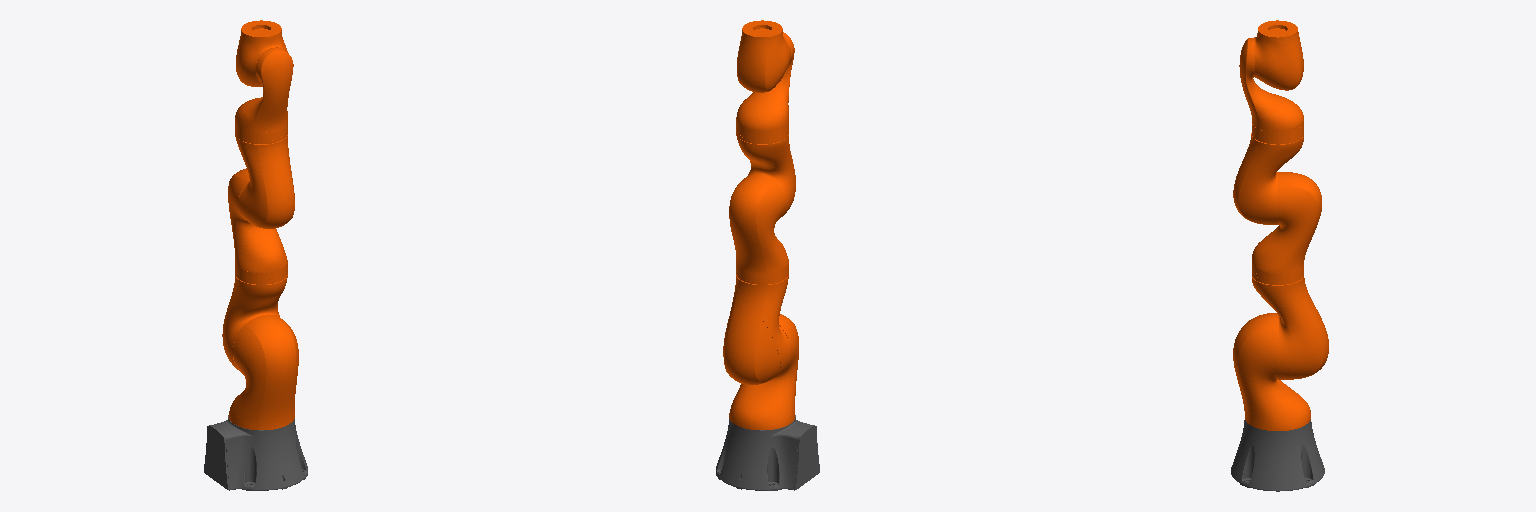
robot.urdf — KUKAiiwa14:
<?xml version="1.0" ?>
<!-- =================================================================================== -->
<!-- |    This document was autogenerated by xacro from [local-path]/devel/workspace/src/robot_properties_kuka/src/robot_properties_kuka/robot_properties_kuka/xacro/iiwa.urdf.xacro | -->
<!-- |    EDITING THIS FILE BY HAND IS NOT RECOMMENDED                                 | -->
<!-- =================================================================================== -->
<robot name="KUKAiiwa14" xmlns:xacro="http://www.ros.org/wiki/xacro">
  <material name="Black">
    <color rgba="0.0 0.0 0.0 1.0"/>
  </material>
  <material name="Blue">
    <color rgba="0.0 0.0 0.8 1.0"/>
  </material>
  <material name="Green">
    <color rgba="0.0 0.8 0.0 1.0"/>
  </material>
  <material name="Grey">
    <color rgba="0.4 0.4 0.4 1.0"/>
  </material>
  <material name="Orange">
    <color rgba="1.0 0.4235294117647059 0.0392156862745098 1.0"/>
  </material>
  <material name="Brown">
    <color rgba="0.8705882352941177 0.8117647058823529 0.7647058823529411 1.0"/>
  </material>
  <material name="Red">
    <color rgba="0.8 0.0 0.0 1.0"/>
  </material>
  <material name="White">
    <color rgba="1.0 1.0 1.0 1.0"/>
  </material>
  <!-- Fix to world just for testing -->
  <link name="world"/>
  <!--joint between WORLD and BASE-->
  <joint name="A0" type="fixed">
    <origin rpy="0 0 0" xyz="0 0 0"/>
    <parent link="world"/>
    <child link="iiwa_base"/>
  </joint>
  <!-- BASE -->
  <link name="iiwa_base">
    <inertial>
      <origin rpy="0 0 0" xyz="0 0 0"/>
      <mass value="5"/>
      <inertia ixx="0.05" ixy="0" ixz="0" iyy="0.06" iyz="0" izz="0.03"/>
    </inertial>
    <visual>
      <origin rpy="0 0 0" xyz="0 0 0"/>
      <geometry>
        <mesh filename="package://robot_properties_kuka/meshes/iiwa_base.dae"/>
      </geometry>
      <material name="Grey"/>
    </visual>
    <collision>
      <origin rpy="0 0 0" xyz="0 0 0"/>
      <geometry>
        <mesh filename="package://robot_properties_kuka/meshes/iiwa_base.obj"/>
      </geometry>
      <material name="Grey"/>
    </collision>
    <self_collision_checking>
      <origin rpy="0 0 0" xyz="0 0 0"/>
      <geometry>
        <capsule length="0.25" radius="0.15"/>
      </geometry>
    </self_collision_checking>
  </link>
  <!-- joint between base and link1 -->
  <joint name="A1" type="revolute">
    <origin rpy="0.0 0.0 0.0" xyz="0.00000 0.00000 0.15750"/>
    <parent link="iiwa_base"/>
    <child link="L1"/>
    <axis xyz="0 0 1"/>
    <limit effort="320" lower="-2.96706" upper="2.96706" velocity="1.48353"/>
    <!-- <safety_controller soft_lower_limit="${-168 * PI / 180}"
                          soft_upper_limit="${168 * PI / 180}"
                          k_position="${safety_controller_k_pos}"
                          k_velocity="${safety_controller_k_vel}"/> 
      <dynamics damping="${joint_damping}"/> -->
  </joint>
  <!-- LINK 1-->
  <link name="L1">
    <inertial>
      <origin xyz="0.00000 0.00000 0.00000"/>
      <mass value="3.94781"/>
      <inertia ixx="0.00455" ixy="0.00000" ixz="-0.00000" iyy="0.00454" iyz="-0.00001" izz="0.00029"/>
    </inertial>
    <visual>
      <origin rpy="0 0 0" xyz="0 0 0"/>
      <geometry>
        <mesh filename="package://robot_properties_kuka/meshes/iiwa_link_1.dae"/>
      </geometry>
      <material name="Orange"/>
    </visual>
    <collision>
      <origin rpy="0 0 0" xyz="0 0 0"/>
      <geometry>
        <mesh filename="package://robot_properties_kuka/meshes/iiwa_link_1.obj"/>
      </geometry>
      <material name="Orange"/>
    </collision>
  </link>
  <!-- joint between link1 and link2 -->
  <joint name="A2" type="revolute">
    <origin rpy="2.3561944901923457 -1.5707962635746238 2.3561944901923457" xyz="0.00000 0.00000 0.20250"/>
    <parent link="L1"/>
    <child link="L2"/>
    <axis xyz="0 0 1"/>
    <limit effort="320" lower="-2.0944" upper="2.0944" velocity="1.48353"/>
    <!-- <safety_controller soft_lower_limit="${-118 * PI / 180}"
                          soft_upper_limit="${118 * PI / 180}"
                          k_position="${safety_controller_k_pos}"
                          k_velocity="${safety_controller_k_vel}"/> 
      <dynamics damping="${joint_damping}"/> -->
  </joint>
  <!-- LINK 2-->
  <link name="L2">
    <inertial>
      <origin rpy="0 0 0" xyz="0.0003 0.059 0.042"/>
      <mass value="4"/>
      <inertia ixx="0.05" ixy="0" ixz="0" iyy="0.018" iyz="0" izz="0.044"/>
    </inertial>
    <visual>
      <origin rpy="0 0 0" xyz="0 0 0"/>
      <geometry>
        <mesh filename="package://robot_properties_kuka/meshes/iiwa_link_2.dae"/>
      </geometry>
      <material name="Orange"/>
    </visual>
    <collision>
      <origin rpy="0 0 0" xyz="0 0 0"/>
      <geometry>
        <mesh filename="package://robot_properties_kuka/meshes/iiwa_link_2.obj"/>
      </geometry>
      <material name="Orange"/>
    </collision>
  </link>
  <!-- joint between link2 and link3 -->
  <joint name="A3" type="revolute">
    <origin rpy="1.5707963267948948 -4.371139000186238E-8 1.5707963705062866" xyz="0.20450 0.00000 0.00000"/>
    <parent link="L2"/>
    <child link="L3"/>
    <axis xyz="0 0 1"/>
    <limit effort="176" lower="-2.96706" upper="2.96706" velocity="1.74533"/>
    <!-- <safety_controller soft_lower_limit="${-168 * PI / 180}"
                          soft_upper_limit="${168 * PI / 180}"
                          k_position="${safety_controller_k_pos}"
                          k_velocity="${safety_controller_k_vel}"/> 
      <dynamics damping="${joint_damping}"/> -->
  </joint>
  <!-- LINK 3-->
  <link name="L3">
    <inertial>
      <origin rpy="0 0 0" xyz="0 0.03 0.13"/>
      <mass value="3"/>
      <inertia ixx="0.08" ixy="0" ixz="0" iyy="0.075" iyz="0" izz="0.01"/>
    </inertial>
    <visual>
      <origin rpy="0 0 0" xyz="0 0 0"/>
      <geometry>
        <mesh filename="package://robot_properties_kuka/meshes/iiwa_link_3.dae"/>
      </geometry>
      <material name="Orange"/>
    </visual>
    <collision>
      <origin rpy="0 0 0" xyz="0 0 0"/>
      <geometry>
        <mesh filename="package://robot_properties_kuka/meshes/iiwa_link_3.obj"/>
      </geometry>
      <material name="Orange"/>
    </collision>
  </link>
  <!-- joint between link3 and link4 -->
  <joint name="A4" type="revolute">
    <origin rpy="1.5707963705062866 -0.0 0.0" xyz="0.00000 0.00000 0.21550"/>
    <parent link="L3"/>
    <child link="L4"/>
    <axis xyz="0 0 1"/>
    <limit effort="176" lower="-2.0944" upper="2.0944" velocity="1.309"/>
    <!-- <safety_controller soft_lower_limit="${-118 * PI / 180}"
                          soft_upper_limit="${118 * PI / 180}"
                          k_position="${safety_controller_k_pos}"
                          k_velocity="${safety_controller_k_vel}"/> 
      <dynamics damping="${joint_damping}"/> -->
  </joint>
  <!-- LINK 4-->
  <link name="L4">
    <inertial>
      <origin rpy="0 0 0" xyz="0 0.067 0.034"/>
      <mass value="2.7"/>
      <inertia ixx="0.03" ixy="0" ixz="0" iyy="0.01" iyz="0" izz="0.029"/>
    </inertial>
    <visual>
      <origin rpy="0 0 0" xyz="0 0 0"/>
      <geometry>
        <mesh filename="package://robot_properties_kuka/meshes/iiwa_link_4.dae"/>
      </geometry>
      <material name="Orange"/>
    </visual>
    <collision>
      <origin rpy="0 0 0" xyz="0 0 0"/>
      <geometry>
        <mesh filename="package://robot_properties_kuka/meshes/iiwa_link_4.obj"/>
      </geometry>
      <material name="Orange"/>
    </collision>
  </link>
  <!-- joint between link4 and link5 -->
  <joint name="A5" type="revolute">
    <origin rpy="-1.5707963705062866 0.0 -0.0" xyz="0.00000 0.18450 0.00000"/>
    <parent link="L4"/>
    <child link="L5"/>
    <axis xyz="0 0 1"/>
    <limit effort="110" lower="-2.96706" upper="2.96706" velocity="2.26893"/>
    <!-- <safety_controller soft_lower_limit="${-168 * PI / 180}"
                          soft_upper_limit="${168 * PI / 180}"
                          k_position="${safety_controller_k_pos}"
                          k_velocity="${safety_controller_k_vel}"/> 
      <dynamics damping="${joint_damping}"/> -->
  </joint>
  <!-- LINK 5-->
  <link name="L5">
    <inertial>
      <origin rpy="0 0 0" xyz="0.0001 0.021 0.076"/>
      <mass value="1.7"/>
      <inertia ixx="0.02" ixy="0" ixz="0" iyy="0.018" iyz="0" izz="0.005"/>
    </inertial>
    <visual>
      <origin rpy="0 0 0" xyz="0 0 0"/>
      <geometry>
        <mesh filename="package://robot_properties_kuka/meshes/iiwa_link_5.dae"/>
      </geometry>
      <material name="Orange"/>
    </visual>
    <collision>
      <origin rpy="0 0 0" xyz="0 0 0"/>
      <geometry>
        <mesh filename="package://robot_properties_kuka/meshes/iiwa_link_5.obj"/>
      </geometry>
      <material name="Orange"/>
    </collision>
  </link>
  <!-- joint between link5 and link6 -->
  <joint name="A6" type="revolute">
    <origin rpy="2.3561944901923457 -1.5707962635746238 2.3561944901923457" xyz="0.00000 -0.06070 0.21550"/>
    <parent link="L5"/>
    <child link="L6"/>
    <axis xyz="0 0 1"/>
    <limit effort="40" lower="-2.0944" upper="2.0944" velocity="2.35619"/>
    <!-- <safety_controller soft_lower_limit="${-118 * PI / 180}"
                          soft_upper_limit="${118 * PI / 180}"
                          k_position="${safety_controller_k_pos}"
                          k_velocity="${safety_controller_k_vel}"/> 
      <dynamics damping="${joint_damping}"/> -->
  </joint>
  <!-- LINK 6-->
  <link name="L6">
    <inertial>
      <origin rpy="0 0 0" xyz="0 0.0006 0.0004"/>
      <mass value="1.8"/>
      <inertia ixx="0.005" ixy="0" ixz="0" iyy="0.0036" iyz="0" izz="0.0047"/>
    </inertial>
    <visual>
      <origin rpy="0 0 0" xyz="0 0 0"/>
      <geometry>
        <mesh filename="package://robot_properties_kuka/meshes/iiwa_link_6.dae"/>
      </geometry>
      <material name="Orange"/>
    </visual>
    <collision>
      <origin rpy="0 0 0" xyz="0 0 0"/>
      <geometry>
        <mesh filename="package://robot_properties_kuka/meshes/iiwa_link_6.obj"/>
      </geometry>
      <material name="Orange"/>
    </collision>
  </link>
  <!-- joint between link6 and link7 -->
  <joint name="A7" type="revolute">
    <origin rpy="1.5707963267948948 -4.371139000186238E-8 1.5707963705062866" xyz="0.08100 0.00000 0.06070"/>
    <parent link="L6"/>
    <child link="L7"/>
    <axis xyz="0 0 1"/>
    <limit effort="40" lower="-3.05433" upper="3.05433" velocity="2.35619"/>
    <!-- <safety_controller soft_lower_limit="${-173 * PI / 180}"
                          soft_upper_limit="${173 * PI / 180}"
                          k_position="${safety_controller_k_pos}"
                          k_velocity="${safety_controller_k_vel}"/> 
      <dynamics damping="${joint_damping}"/> -->
  </joint>
  <!-- LINK 7-->
  <link name="L7">
    <inertial>
      <origin rpy="0 0 0" xyz="0 0 0.02"/>
      <mass value="0.3"/>
      <inertia ixx="0.001" ixy="0" ixz="0" iyy="0.001" iyz="0" izz="0.001"/>
    </inertial>
    <visual>
      <origin rpy="0 0 0" xyz="0 0 0"/>
      <geometry>
        <mesh filename="package://robot_properties_kuka/meshes/iiwa_link_7.dae"/>
      </geometry>
      <material name="Grey"/>
    </visual>
    <collision>
      <origin rpy="0 0 0" xyz="0 0 0"/>
      <geometry>
        <mesh filename="package://robot_properties_kuka/meshes/iiwa_link_7.obj"/>
      </geometry>
      <material name="Grey"/>
    </collision>
  </link>
  <!-- EE -->
  <joint name="EE" type="fixed">
    <parent link="L7"/>
    <child link="contact"/>
    <!-- Joint placement -->
    <origin rpy="0 0 0" xyz="0 0.0 0.04"/>
    <!-- Limits (usefull?) -->
    <limit effort="1000" lower="-10" upper="10" velocity="1000"/>
    <!-- pybullet simulation parameters -->
    <dynamics damping="0.0" friction="0.0"/>
  </joint>
  <!-- CONTACT (modeled by a tennis ball) -->
  <link name="contact">
    <inertial>
      <origin rpy="0 0 0" xyz="0 0 0.0"/>
      <mass value="0.057"/>
      <inertia ixx="0.0000354" ixy="0.0" ixz="0.0" iyy="0.0000354" iyz="0.0" izz="0.0000354"/>
    </inertial>
    <visual>
      <origin rpy="0 0 0" xyz="0 0 0"/>
      <geometry>
        <mesh filename="package://robot_properties_kuka/meshes/tennis_ball_smaller.obj"/>
      </geometry>
      <material name="grey">
        <color rgba="0.8 0.8 0.8 1.0"/>
      </material>
    </visual>
    <collision>
      <origin rpy="0 0 0" xyz="0 0 0"/>
      <geometry>
        <mesh filename="package://robot_properties_kuka/meshes/tennis_ball_smaller.obj"/>
      </geometry>
      <material name="grey">
        <color rgba="0.8 0.8 0.8 1.0"/>
      </material>
    </collision>
    <!-- Bullet specific paramters -->
    <contact>
      <lateral_friction value="1.0"/>
      <restitution value="0.5"/>
    </contact>
  </link>
  <!-- Enable the Joint Feedback -->
  <gazebo reference="KUKAiiwa14_joint_7">
    <provideFeedback>true</provideFeedback>
  </gazebo>
  <!-- The ft_sensor plugin -->
  <gazebo>
    <plugin filename="libgazebo_ros_ft_sensor.so" name="ft_sensor">
      <updateRate>50.0</updateRate>
      <topicName>/KUKAiiwa14/state/CartesianWrench</topicName>
      <jointName>KUKAiiwa14_joint_7</jointName>
    </plugin>
  </gazebo>
  <!-- Load Gazebo lib and set the robot namespace -->
  <gazebo>
    <plugin filename="libgazebo_ros_control.so" name="gazebo_ros_control">
      <robotNamespace>/KUKAiiwa14</robotNamespace>
    </plugin>
  </gazebo>
  <!-- Link0 -->
  <gazebo reference="KUKAiiwa14_base">
    <material>Gazebo/Grey</material>
    <mu1>0.2</mu1>
    <mu2>0.2</mu2>
  </gazebo>
  <!-- Link1 -->
  <gazebo reference="KUKAiiwa14_link1">
    <material>Gazebo/Orange</material>
    <mu1>0.2</mu1>
    <mu2>0.2</mu2>
  </gazebo>
  <!-- Link2 -->
  <gazebo reference="KUKAiiwa14_link2">
    <material>Gazebo/Orange</material>
    <mu1>0.2</mu1>
    <mu2>0.2</mu2>
  </gazebo>
  <!-- Link3 -->
  <gazebo reference="KUKAiiwa14_link3">
    <material>Gazebo/Orange</material>
    <mu1>0.2</mu1>
    <mu2>0.2</mu2>
  </gazebo>
  <!-- Link4 -->
  <gazebo reference="KUKAiiwa14_link4">
    <material>Gazebo/Orange</material>
    <mu1>0.2</mu1>
    <mu2>0.2</mu2>
  </gazebo>
  <!-- Link5 -->
  <gazebo reference="KUKAiiwa14_link5">
    <material>Gazebo/Orange</material>
    <mu1>0.2</mu1>
    <mu2>0.2</mu2>
  </gazebo>
  <!-- Link6 -->
  <gazebo reference="KUKAiiwa14_link6">
    <material>Gazebo/Orange</material>
    <mu1>0.2</mu1>
    <mu2>0.2</mu2>
  </gazebo>
  <!-- Link7 -->
  <gazebo reference="KUKAiiwa14_link7">
    <material>Gazebo/Grey</material>
    <mu1>0.2</mu1>
    <mu2>0.2</mu2>
  </gazebo>
  <!-- <xacro:iiwa_transmission hardware_interface="${hardware_interface}"/> -->
</robot>

--- What the picture shows (computed from the rendered views, not written in the file) ---
3 views of the same robot in one strip: view 1: azimuth 30°, elevation 25°; view 2: azimuth 150°, elevation 25°; view 3: azimuth 270°, elevation 25° (orthographic).
Robot: KUKAiiwa14 — 10 links, 9 joints (7 revolute, 2 fixed); root link world; default pose: all joints at 0.
Links seen in each view (by area): view 1: L1, iiwa_base, L4, L5, L3, L2, L6; view 2: iiwa_base, L2, L3, L1, L6, L5, L4; view 3: L1, iiwa_base, L3, L2, L4, L5, L6.
Link boxes in pixels (bbox=[...]): L1: bbox=[229, 314, 298, 429]; iiwa_base: bbox=[204, 415, 307, 490]; L4: bbox=[235, 135, 294, 228]; L5: bbox=[235, 48, 293, 143]; L3: bbox=[228, 168, 287, 284]; L2: bbox=[222, 275, 287, 373]; L6: bbox=[236, 20, 287, 86]; iiwa_base: bbox=[716, 415, 819, 490]; L2: bbox=[723, 275, 790, 384]; L3: bbox=[729, 174, 788, 284]; L1: bbox=[729, 314, 798, 429]; L6: bbox=[737, 20, 790, 92]; L5: bbox=[736, 32, 794, 143]; L4: bbox=[736, 135, 795, 219]; L1: bbox=[1233, 313, 1310, 430]; iiwa_base: bbox=[1231, 420, 1324, 491]; L3: bbox=[1252, 172, 1321, 284]; L2: bbox=[1252, 277, 1328, 379]; L4: bbox=[1233, 133, 1303, 224]; L5: bbox=[1239, 38, 1303, 144]; L6: bbox=[1254, 20, 1303, 90].
Bounding box of the posed robot: 0.2575 × 0.2536 × 1.26 m (x, y, z).
Meshes: 9 distinct files referenced, 7 mesh visuals loaded (7 Collada DAE); not drawn: 2 (reference not matched to a file when rendering).
